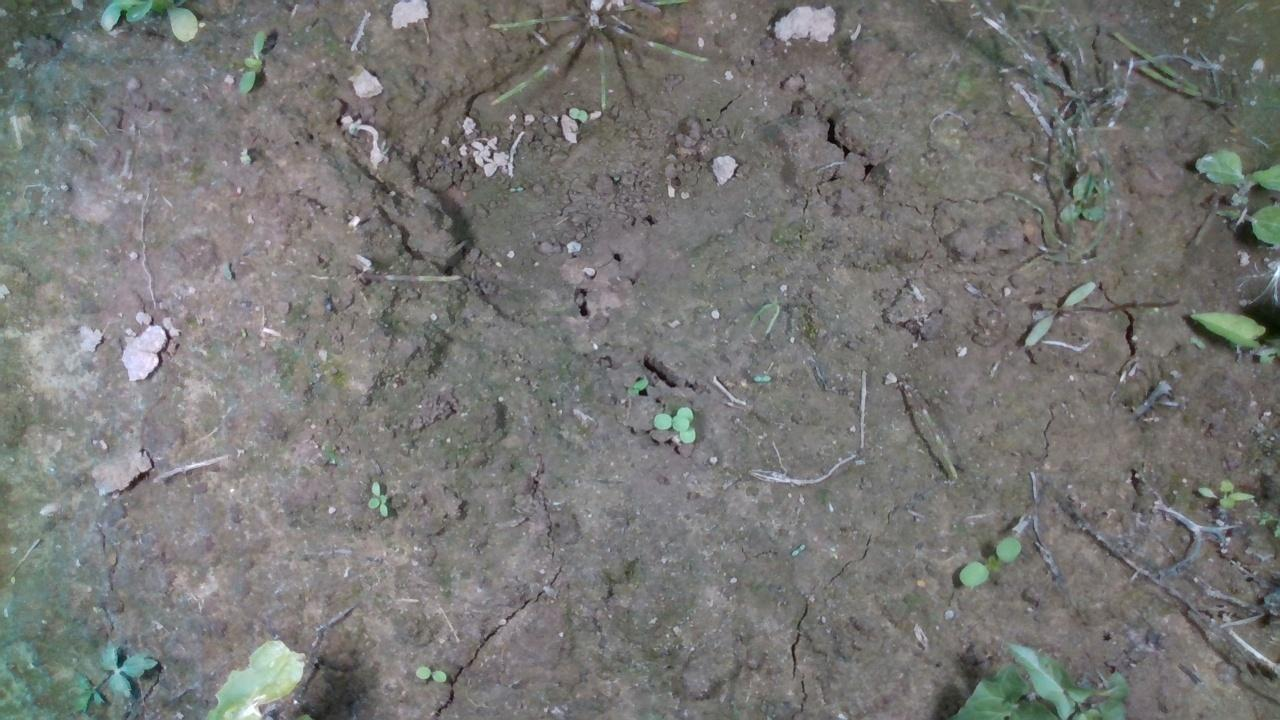weed: (955, 534, 1024, 588), (234, 29, 267, 96), (359, 477, 415, 513), (1195, 476, 1254, 509), (415, 666, 445, 684)
